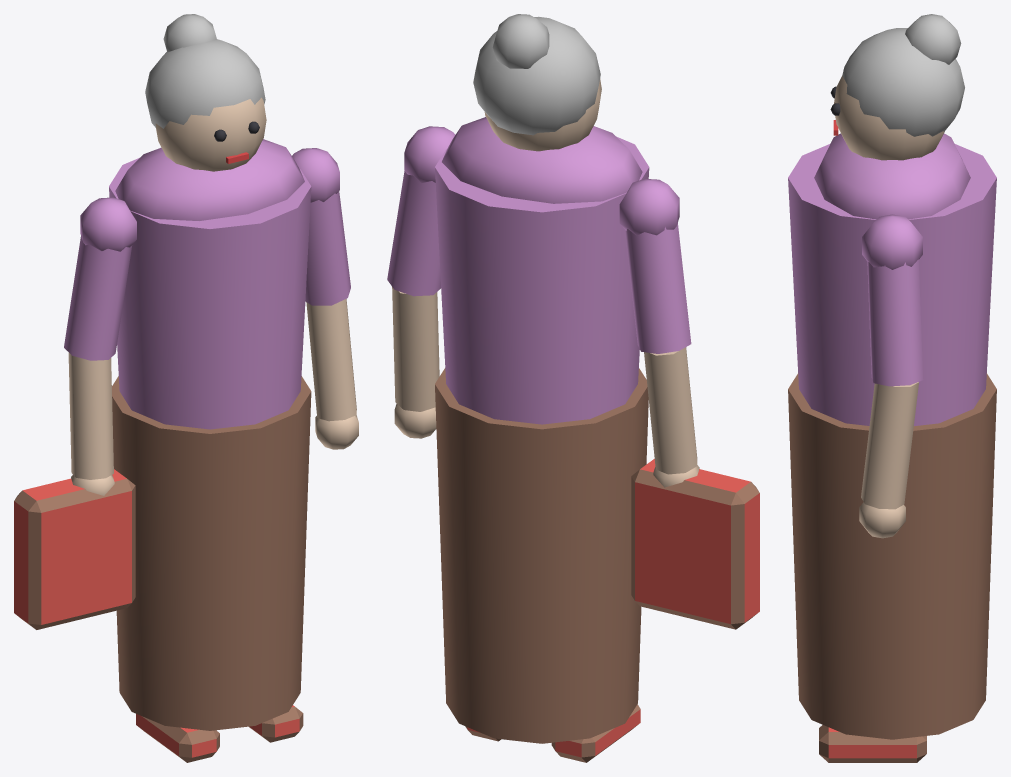
The model's file is SM_NPC_Auntie.fbx.
3 renders of one model, left to right at view 1: azimuth 30°, elevation 25°; view 2: azimuth 150°, elevation 25°; view 3: azimuth 270°, elevation 25°, orthographic. The views are drawn at different scales.
Parts seen in each view (by area): view 1: SM_NPC_Auntie; view 2: SM_NPC_Auntie; view 3: SM_NPC_Auntie.
Boxes of the visible parts, left/top/right/bottom form: SM_NPC_Auntie: left=14, top=14, right=358, bottom=762; SM_NPC_Auntie: left=387, top=14, right=759, bottom=762; SM_NPC_Auntie: left=788, top=14, right=996, bottom=762.
Bounding box in the file's own units: 0.814 × 1.62 × 0.4256.
